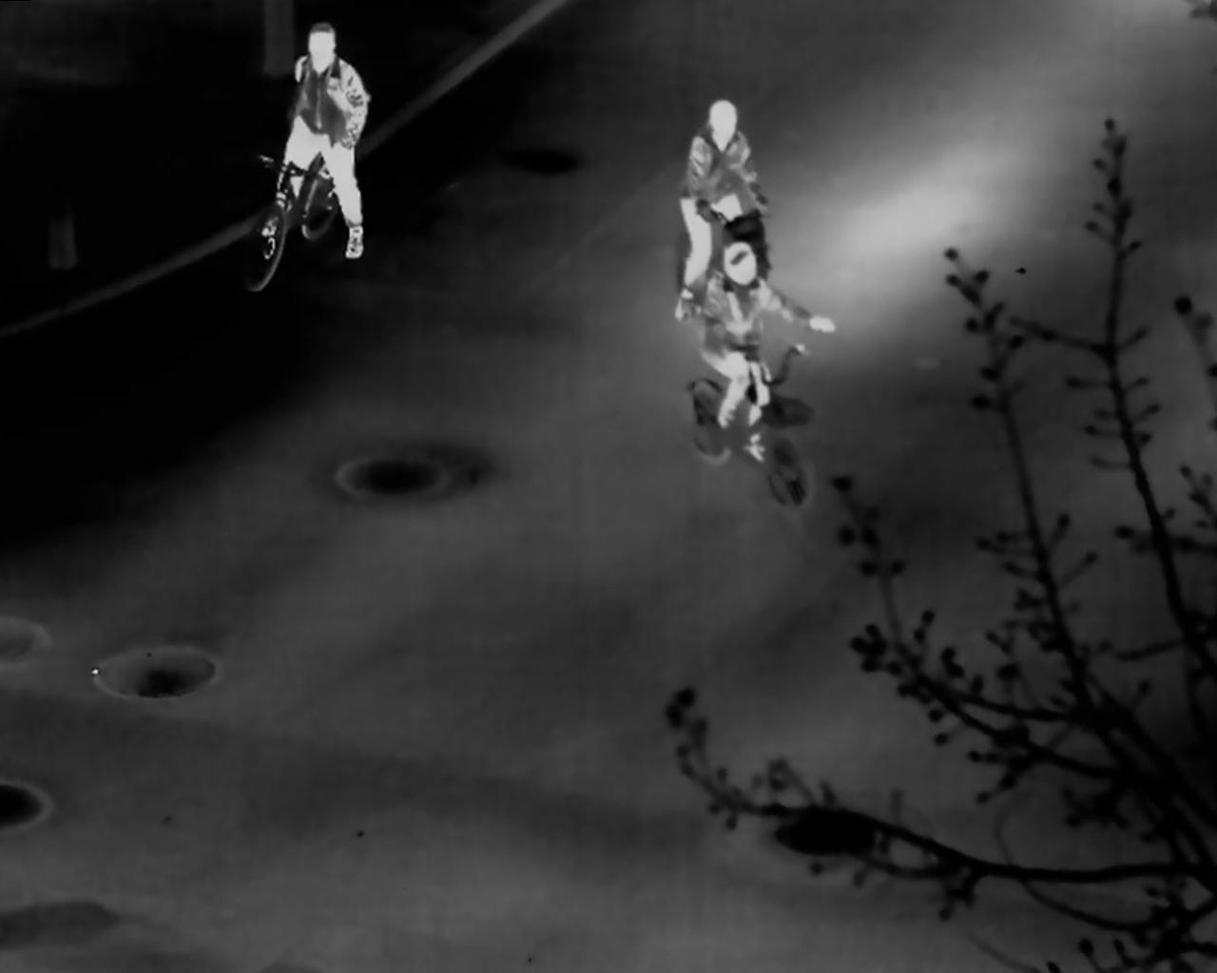person: (700, 241, 833, 464), (263, 21, 370, 261), (672, 97, 771, 321)
